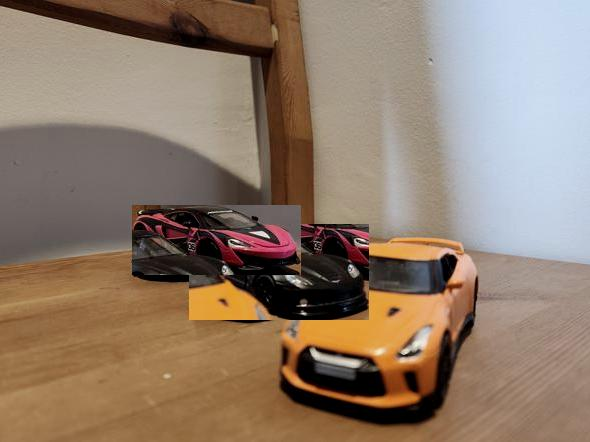toy-car: (279, 238, 479, 415), (189, 225, 369, 321), (131, 205, 300, 275)
